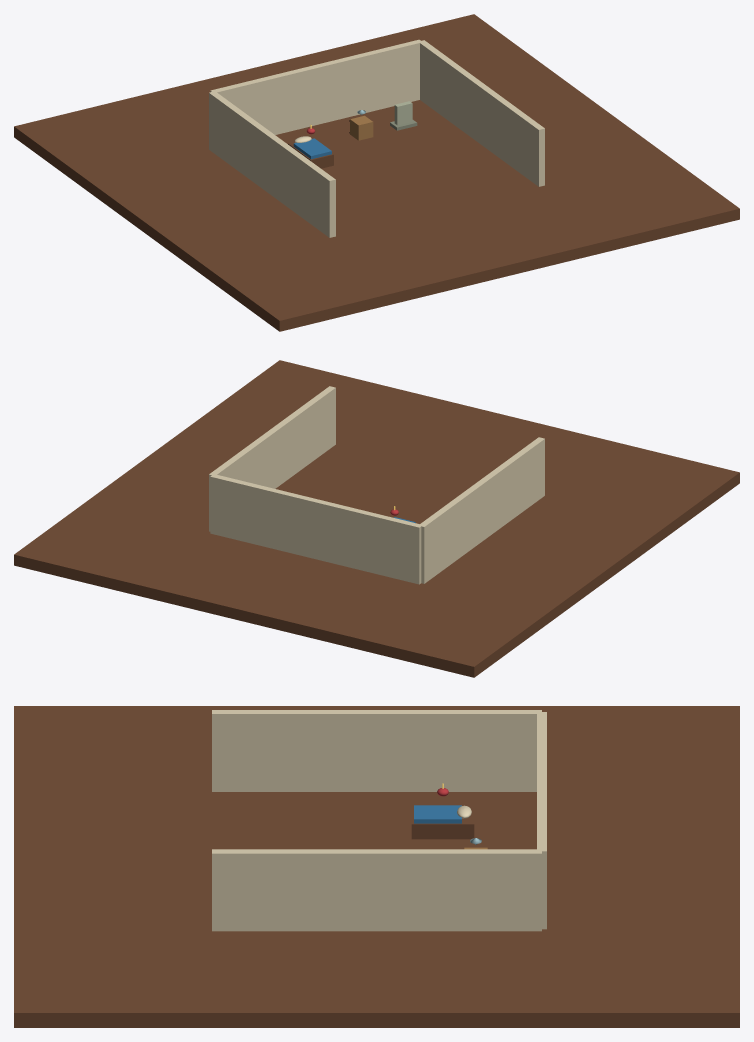
Rendered from elin_memory_room.glb.
3 views of the same model, one above another, from view 1: azimuth 30°, elevation 25°; view 2: azimuth 150°, elevation 25°; view 3: azimuth 270°, elevation 25° (orthographic). The views are drawn at different scales.
Parts seen in each view (by area): view 1: ground, room_wall (×2), back_wall; view 2: ground, room_wall (×2), back_wall; view 3: ground, room_wall (×2), back_wall, frame, blanket.
Boxes of the visible parts, x1,y1,x2,y2 form: ground: [14, 14, 739, 331]; room_wall (×2): [209, 40, 544, 237]; back_wall: [210, 39, 420, 134]; ground: [14, 360, 739, 677]; room_wall (×2): [209, 386, 544, 583]; back_wall: [210, 474, 422, 584]; ground: [14, 706, 739, 1027]; room_wall (×2): [212, 710, 541, 931]; back_wall: [537, 712, 546, 929]; frame: [411, 809, 474, 839]; blanket: [414, 805, 461, 823].
Size of the model in its own units: 22 by 3.1 by 22.
